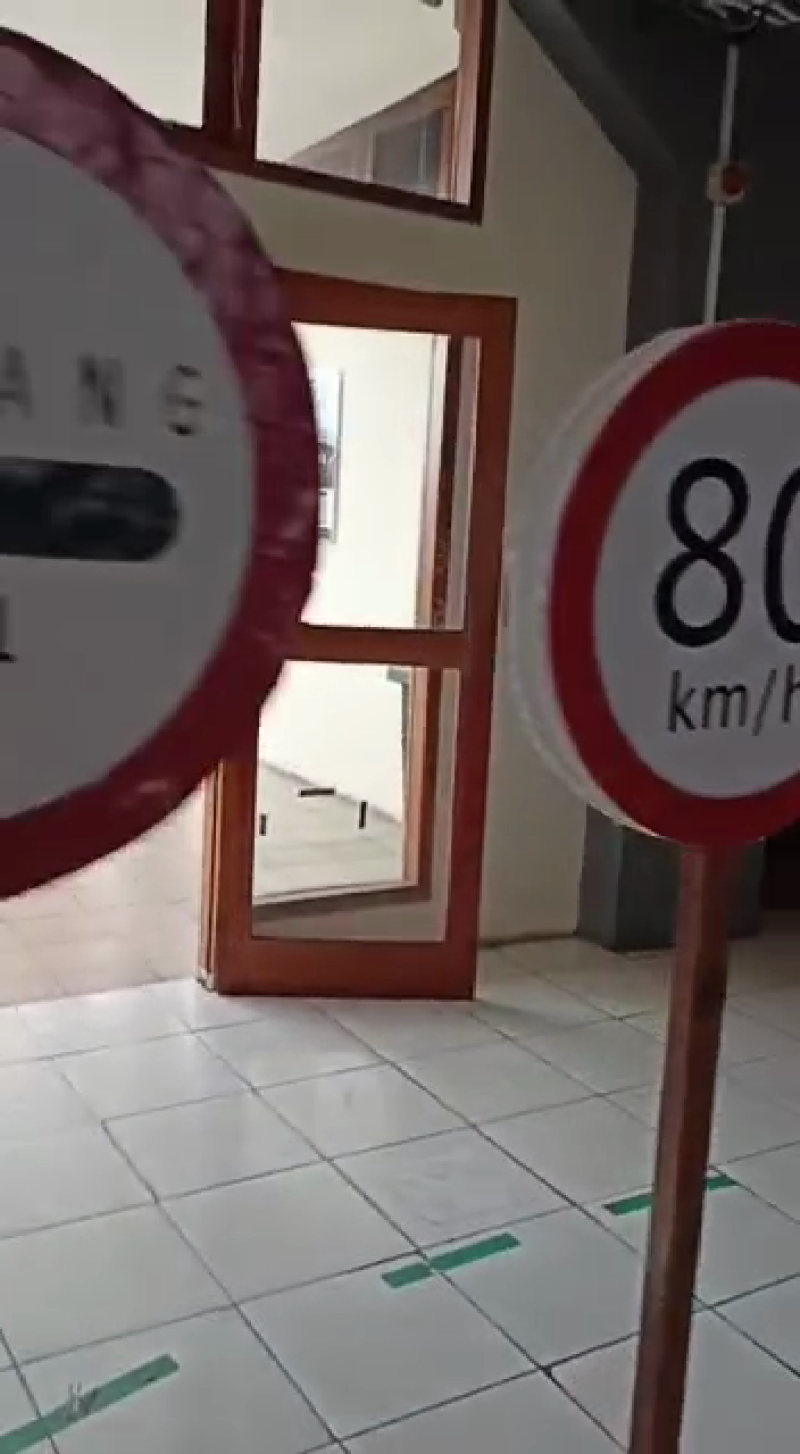batas maksimal 80kmperjam: (539, 311, 800, 863)
gerbang tol: (1, 1, 330, 912)
